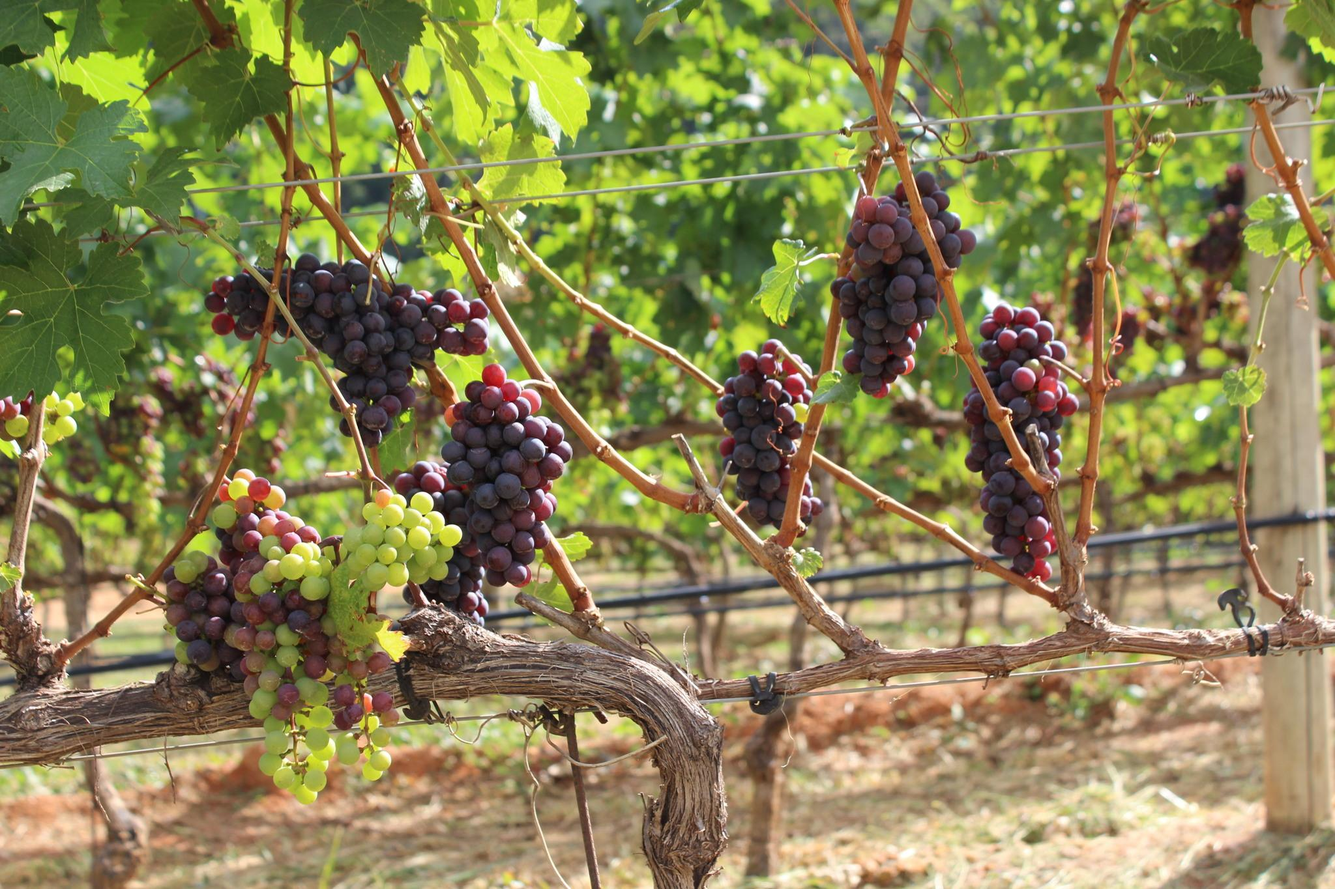Grape Ripe: (963, 300, 1075, 582), (833, 171, 966, 398), (205, 257, 490, 357), (442, 363, 566, 587), (716, 340, 822, 535), (324, 313, 415, 447)
Grape Unripe: (339, 491, 462, 589)
